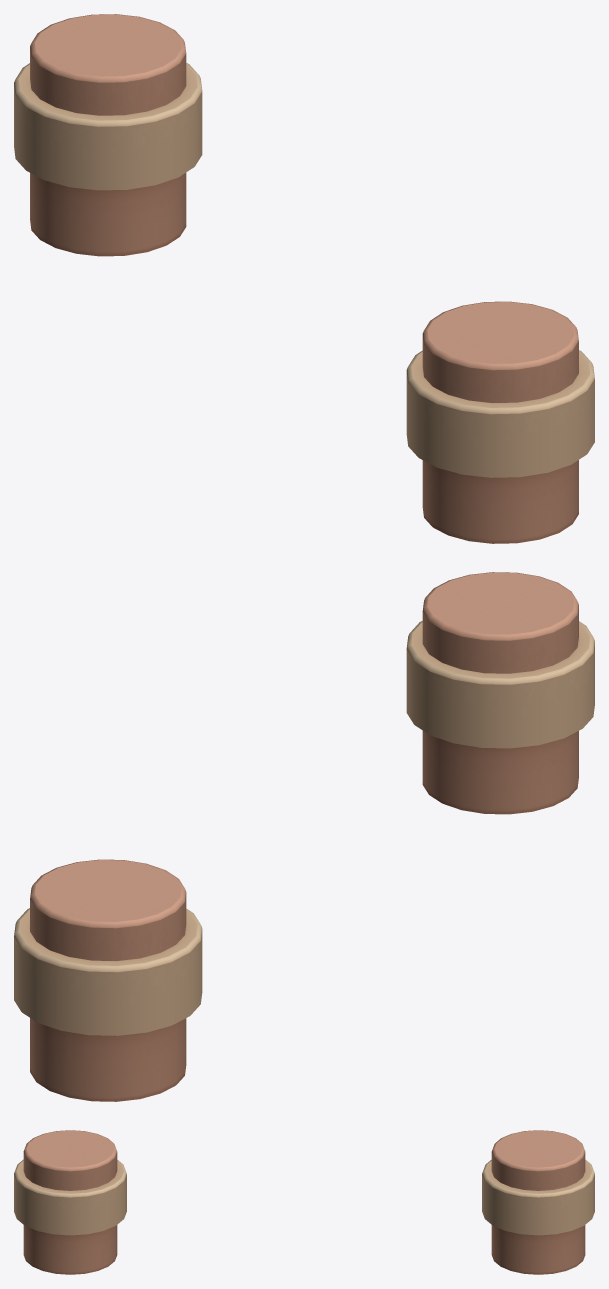
File: Props.fbx
3 views of the same model, one above another, from view 1: azimuth 30°, elevation 25°; view 2: azimuth 150°, elevation 25°; view 3: azimuth 270°, elevation 25° (orthographic). The views are drawn at different scales.
Visible parts, largest first — view 1: Cylinder (1), Cylinder; view 2: Cylinder, Cylinder (1); view 3: Cylinder, Cylinder (1).
Part boxes in pixels (x1=…): Cylinder (1): x1=14, y1=14, x2=202, y2=256; Cylinder: x1=406, y1=301, x2=594, y2=543; Cylinder: x1=406, y1=572, x2=594, y2=814; Cylinder (1): x1=14, y1=859, x2=202, y2=1101; Cylinder: x1=14, y1=1130, x2=126, y2=1274; Cylinder (1): x1=482, y1=1130, x2=594, y2=1274.
Bounding box in the file's own units: 4.82 × 5 × 24.82.
